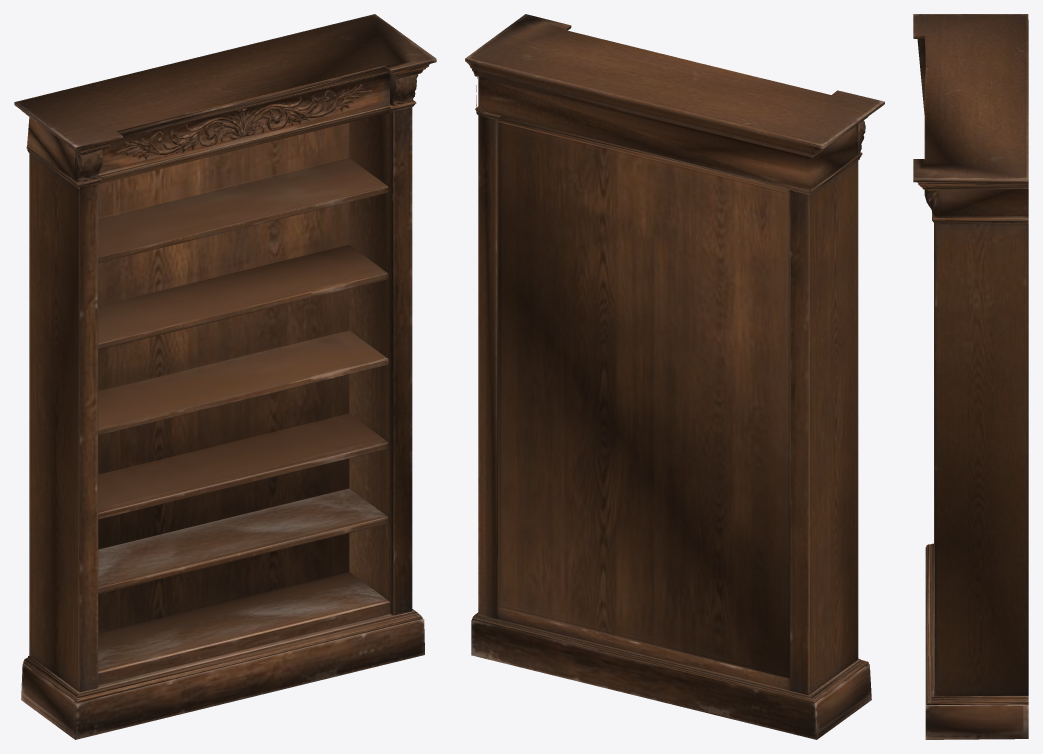
The model's file is skyways-d-bk-bookcase.glb.
3 renders of one model, left to right at view 1: azimuth 30°, elevation 25°; view 2: azimuth 150°, elevation 25°; view 3: azimuth 270°, elevation 25°, orthographic. The views are drawn at different scales.
Parts seen in each view (by area): view 1: skyways-d-bk-bookcase; view 2: skyways-d-bk-bookcase; view 3: skyways-d-bk-bookcase.
Part boxes in pixels (x1,y1,x2,y2): skyways-d-bk-bookcase: (14,14,436,739); skyways-d-bk-bookcase: (465,14,884,739); skyways-d-bk-bookcase: (913,14,1028,739).
Size of the model in its own units: 1.51 by 2.4 by 0.4453.
Materials: 1 (1 with a texture image).
